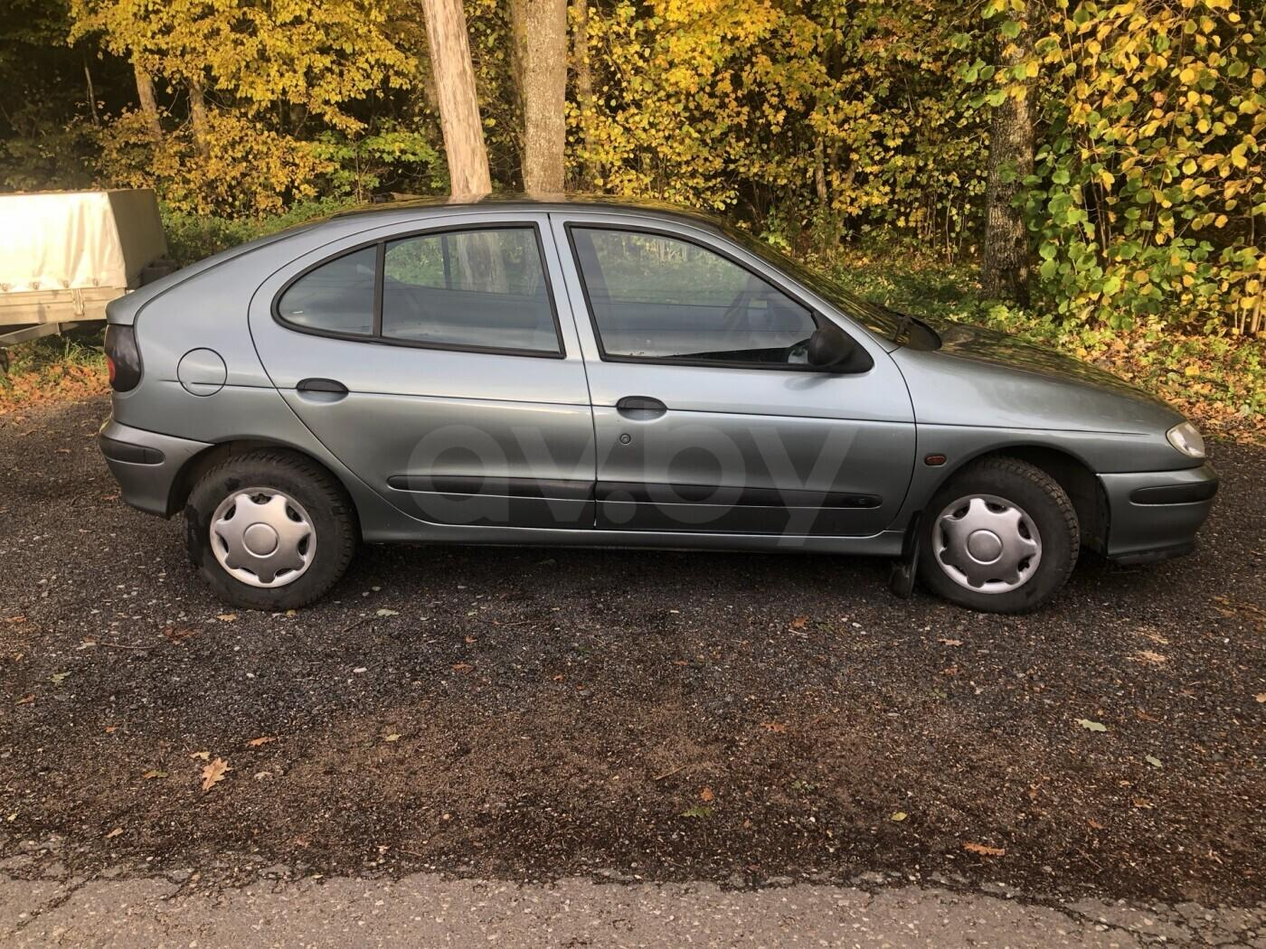Megane_1995-1999: (93, 199, 1231, 634)
